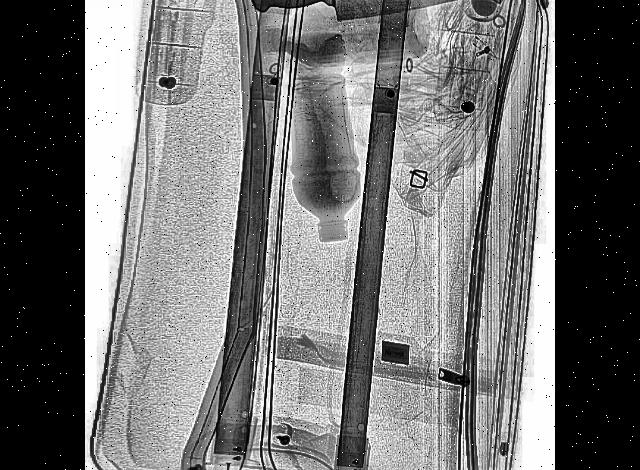Knife: (250, 0, 458, 25)
